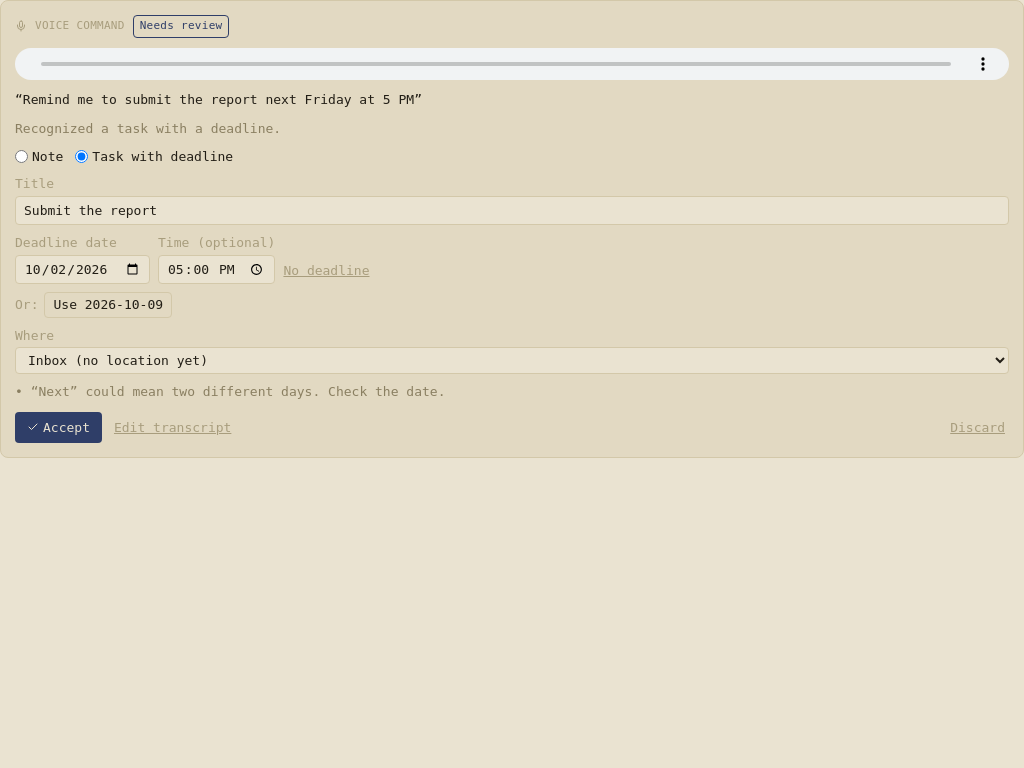
Test: review of a create proposal › cancelling the overdue prompt writes nothing
Step 1. Click the button "Accept" → (58, 427), box [15,412,102,443]
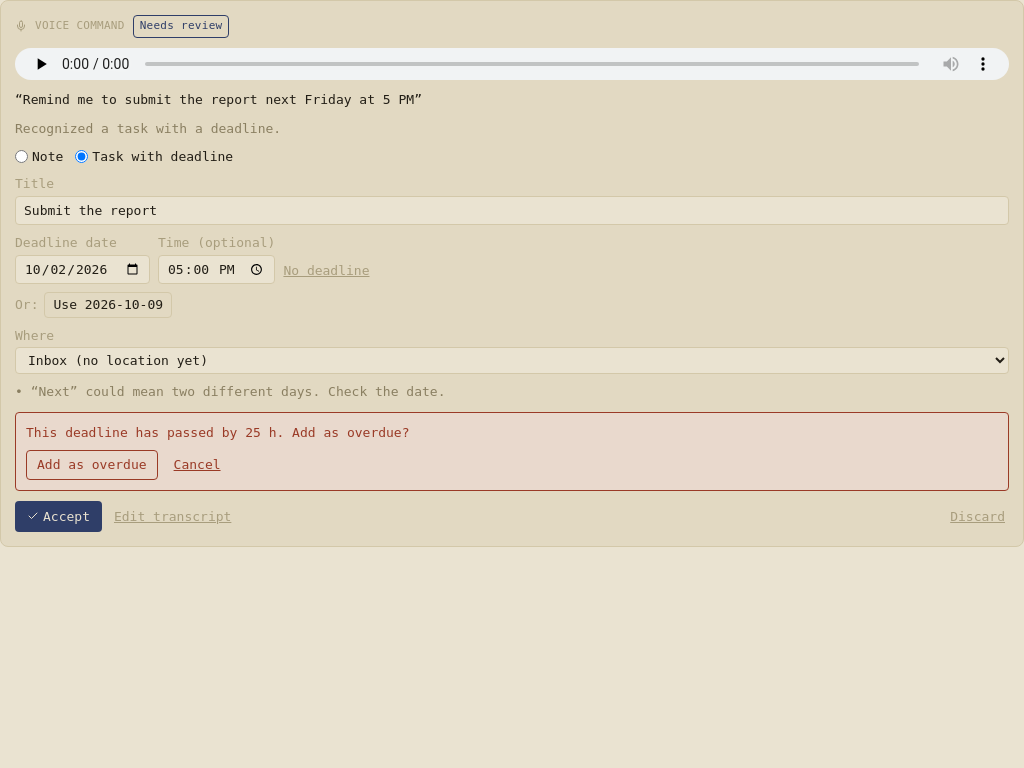
Now the dialog shows "25 h", box [245,425,276,440]
Step 2. Click the button "Cancel" → (197, 465), box [166,450,229,480]
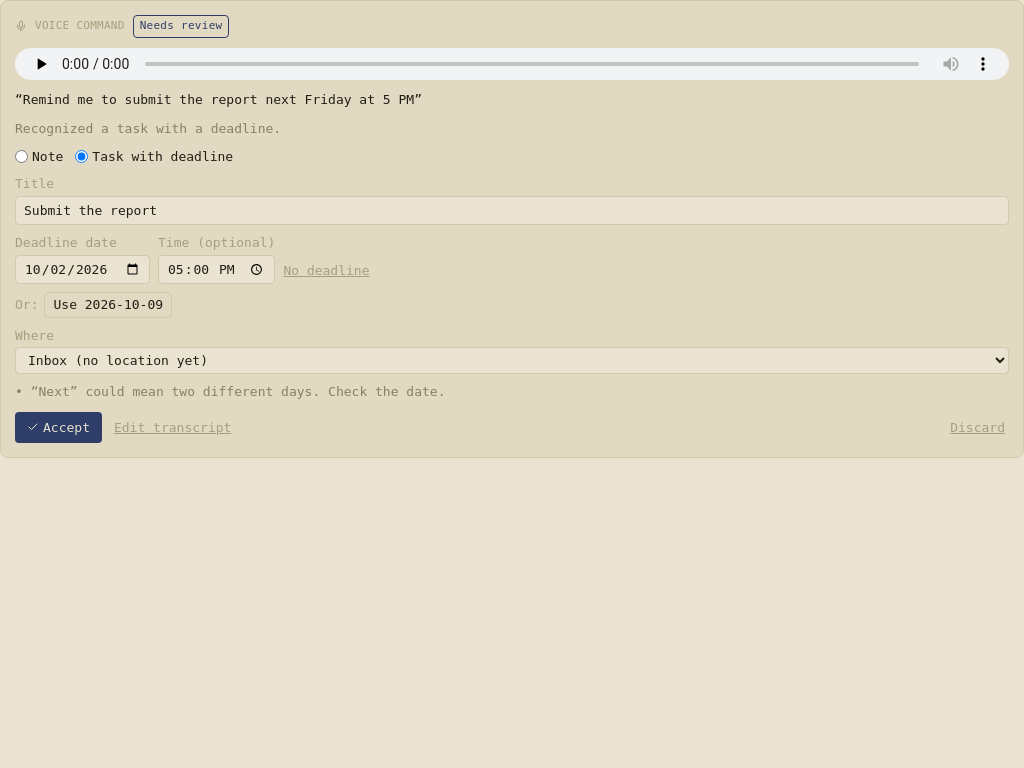
Now the dialog is gone
